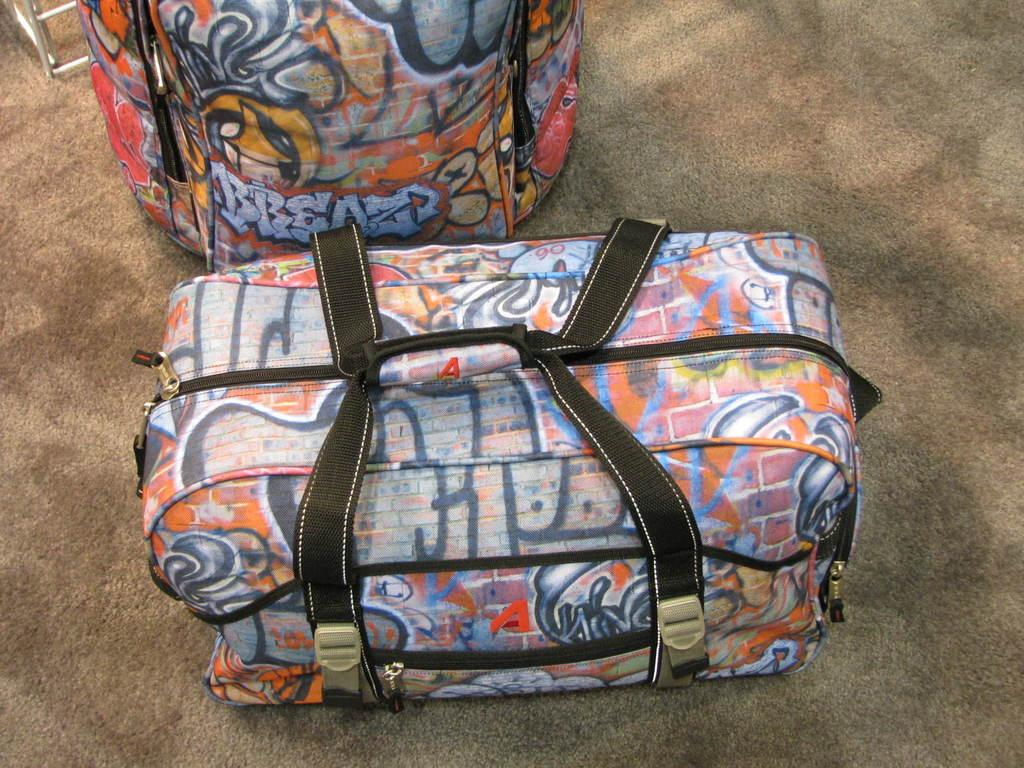Luggage-and-bags: (174, 217, 860, 714), (77, 0, 579, 273)
